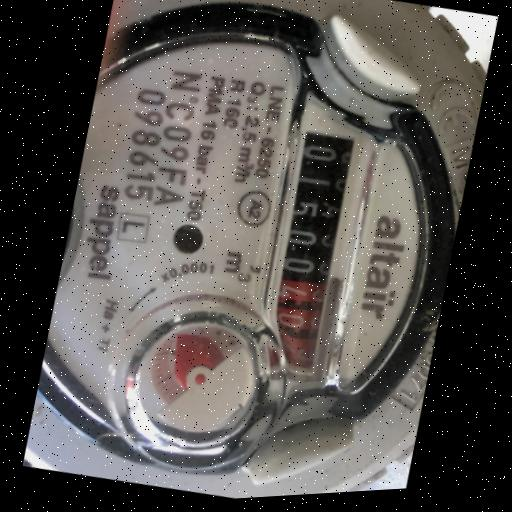0: (300, 138, 353, 169), (281, 249, 332, 281), (287, 224, 337, 254), (273, 305, 321, 335)
1: (296, 167, 346, 196)
3: (274, 333, 318, 367)
4: (276, 277, 326, 309)
5: (291, 194, 342, 225)
border_water_meter_number: (245, 86, 386, 399)
